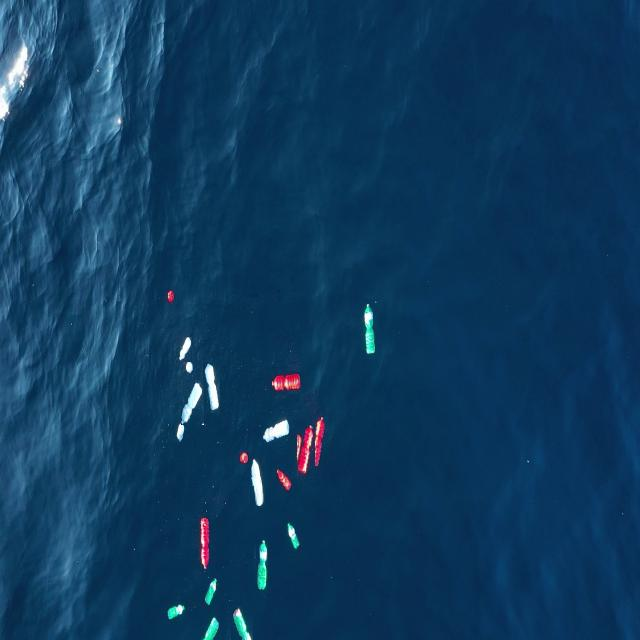bottles: (181, 380, 204, 425), (361, 299, 378, 359), (297, 422, 315, 478), (203, 362, 220, 413), (310, 414, 326, 468), (261, 417, 291, 444), (250, 454, 265, 508), (231, 605, 253, 640), (270, 371, 303, 394), (255, 537, 268, 592), (198, 515, 210, 572), (202, 614, 221, 640), (274, 466, 292, 493), (204, 578, 219, 608), (286, 520, 300, 550), (166, 602, 186, 621), (178, 337, 192, 362)
